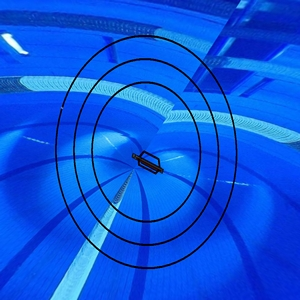circle: (53, 34, 241, 270)
submarine: (128, 146, 168, 178)
